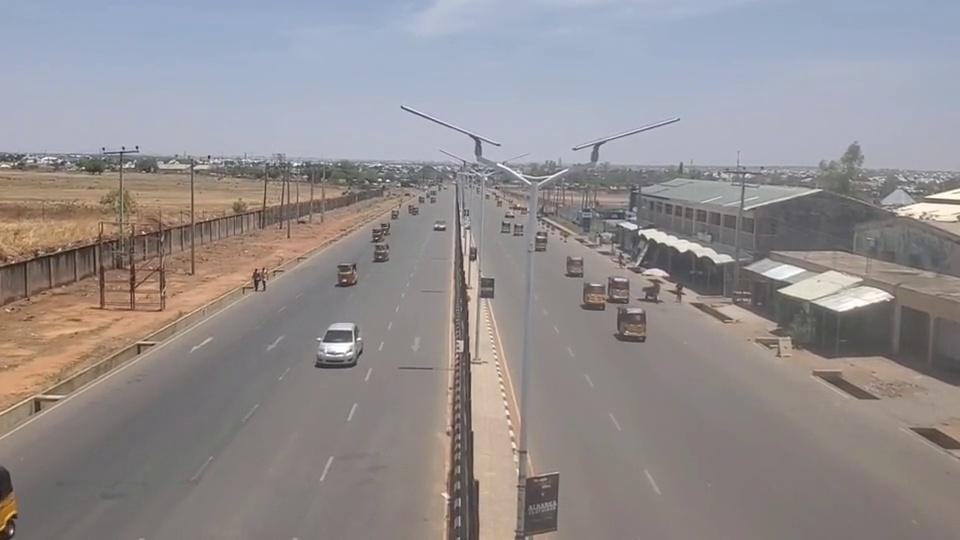keke: (0, 465, 17, 538), (616, 306, 646, 341), (582, 281, 606, 309), (606, 275, 629, 303), (336, 262, 357, 286), (565, 254, 583, 277)
